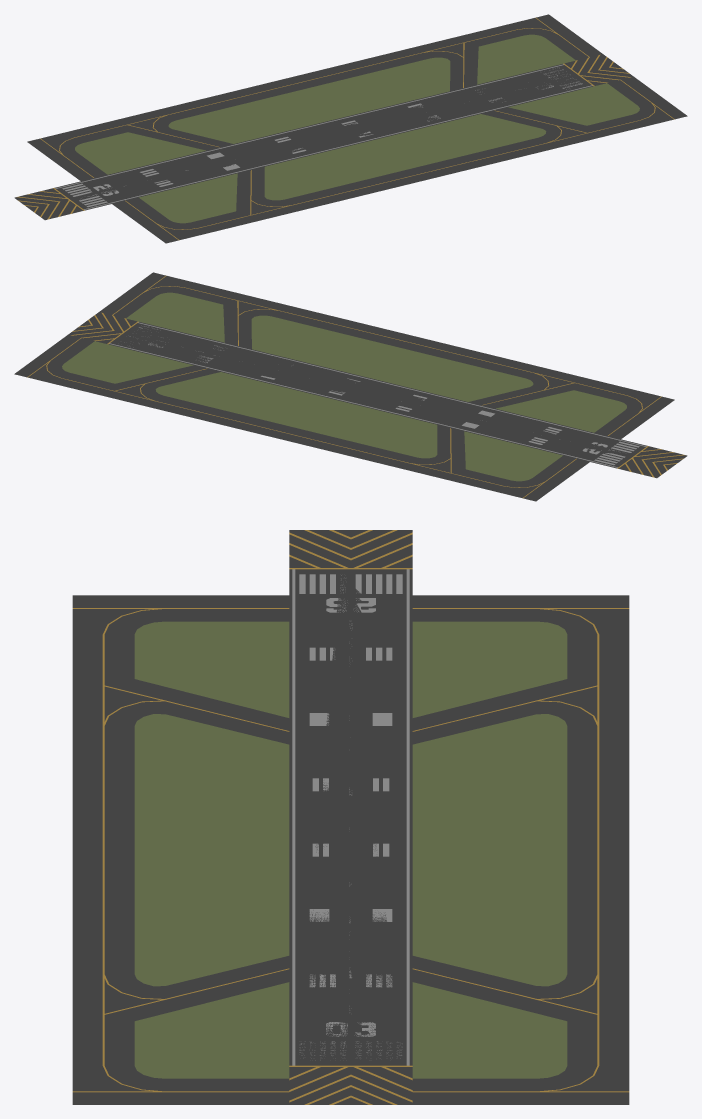
File: SM_Envr_Airport_Runway.fbx
3 renders of one model, top to bottom at view 1: azimuth 30°, elevation 25°; view 2: azimuth 150°, elevation 25°; view 3: azimuth 270°, elevation 25°, orthographic. The views are drawn at different scales.
Parts seen in each view (by area): view 1: SM_Envr_Airport_Runway; view 2: SM_Envr_Airport_Runway; view 3: SM_Envr_Airport_Runway.
Boxes of the visible parts, <box> form: SM_Envr_Airport_Runway: <box>14,14,687,243</box>; SM_Envr_Airport_Runway: <box>14,272,687,501</box>; SM_Envr_Airport_Runway: <box>72,530,629,1104</box>.
Size of the model in its own units: 44000 by 2.98e-05 by 18000.
